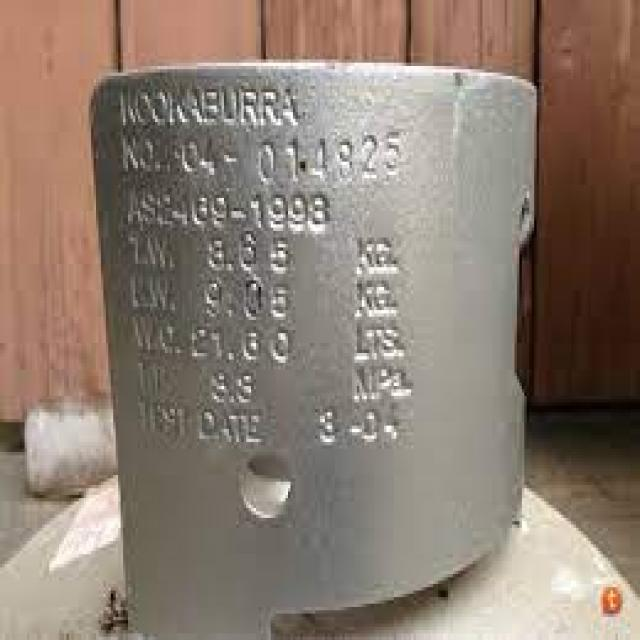ocr: (111, 82, 412, 459)
